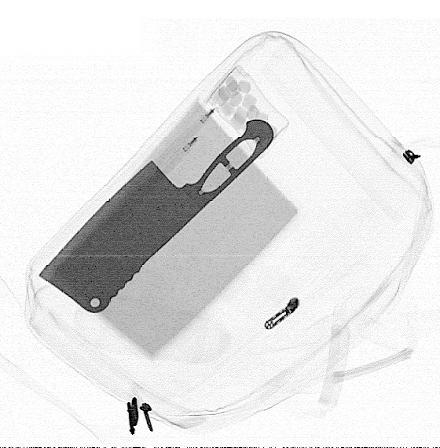Knife: (36, 119, 275, 315)
